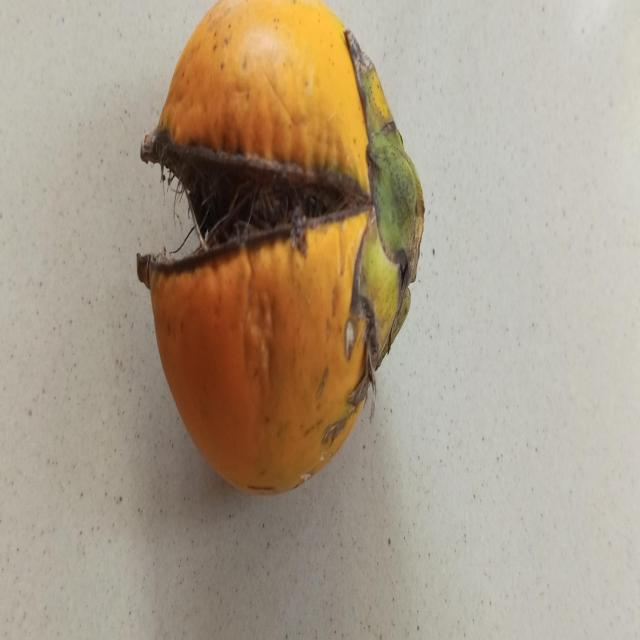damaged: (137, 0, 425, 493)
